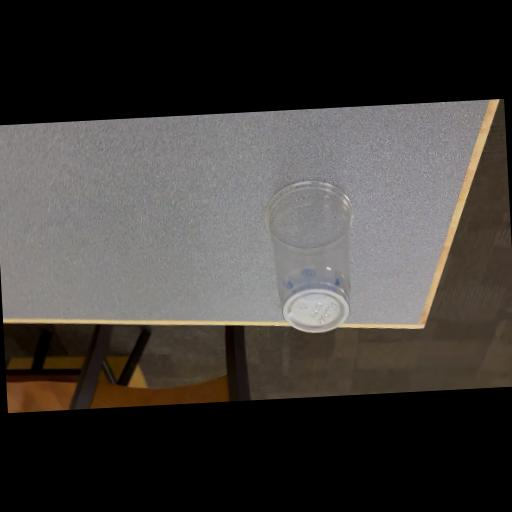lp_plastic_cup: (254, 167, 368, 341)
